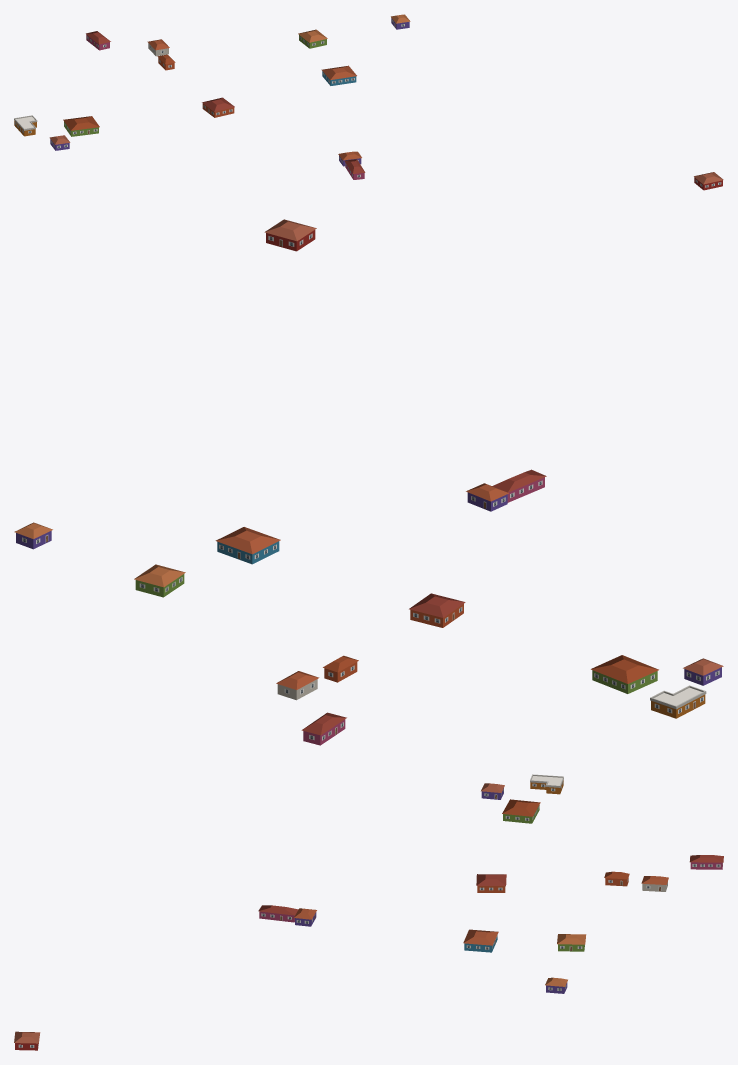
File: msb_sannicolas_11_20.glb
The picture shows the model from 3 angles, top to bottom: view 1: azimuth 30°, elevation 25°; view 2: azimuth 150°, elevation 25°; view 3: azimuth 270°, elevation 25°; orthographic projection. The views are drawn at different scales.
Visible parts, largest first — view 1: msb_sannicolas_11_20_lod0; view 2: msb_sannicolas_11_20_lod0; view 3: msb_sannicolas_11_20_lod0.
Part boxes in pixels (x1,y1,x2,y2): msb_sannicolas_11_20_lod0: [14, 14, 723, 190]; msb_sannicolas_11_20_lod0: [14, 219, 723, 745]; msb_sannicolas_11_20_lod0: [14, 774, 723, 1050].
Size of what is drawn, in the model's own units: 270 by 14.95 by 303.
3 materials, 1 textured.
